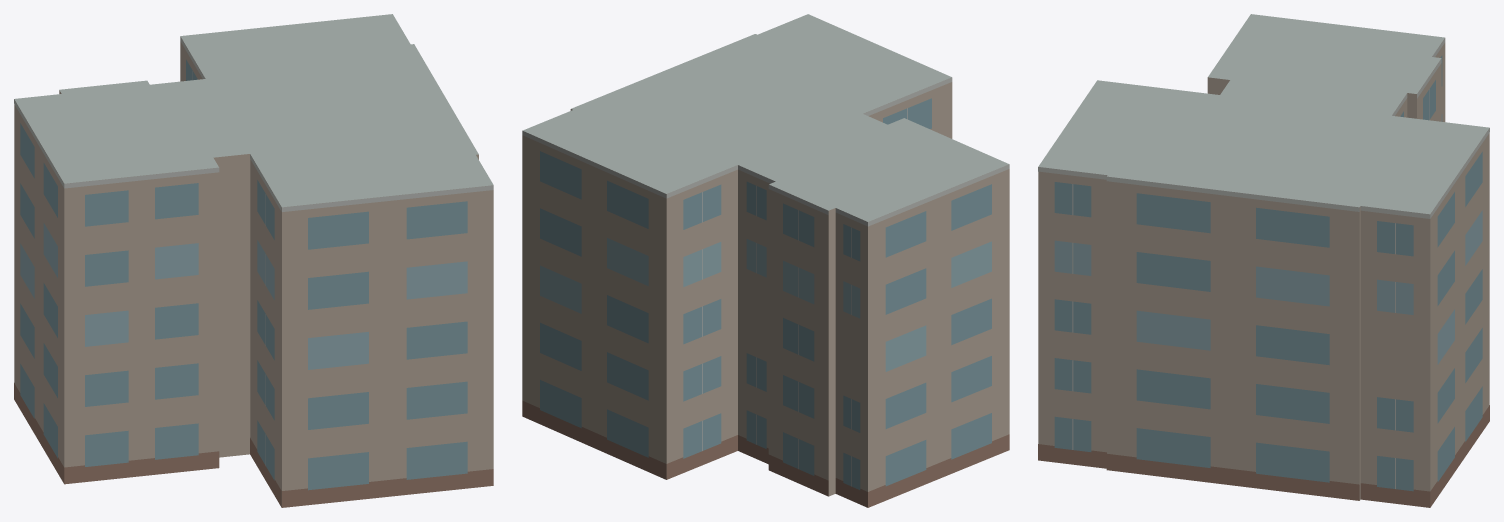
The model's file is survey-upis-33007870.glb.
3 renders of one model, left to right at view 1: azimuth 30°, elevation 25°; view 2: azimuth 150°, elevation 25°; view 3: azimuth 270°, elevation 25°, orthographic. The views are drawn at different scales.
Parts seen in each view (by area): view 1: survey-upis-33007870.tmp; view 2: survey-upis-33007870.tmp; view 3: survey-upis-33007870.tmp.
Boxes of the visible parts, left/top/right/bottom form: survey-upis-33007870.tmp: left=14, top=14, right=493, bottom=507; survey-upis-33007870.tmp: left=522, top=14, right=1009, bottom=507; survey-upis-33007870.tmp: left=1038, top=14, right=1489, bottom=507.
Size of the model in its own units: 22.33 by 15.25 by 21.27.
